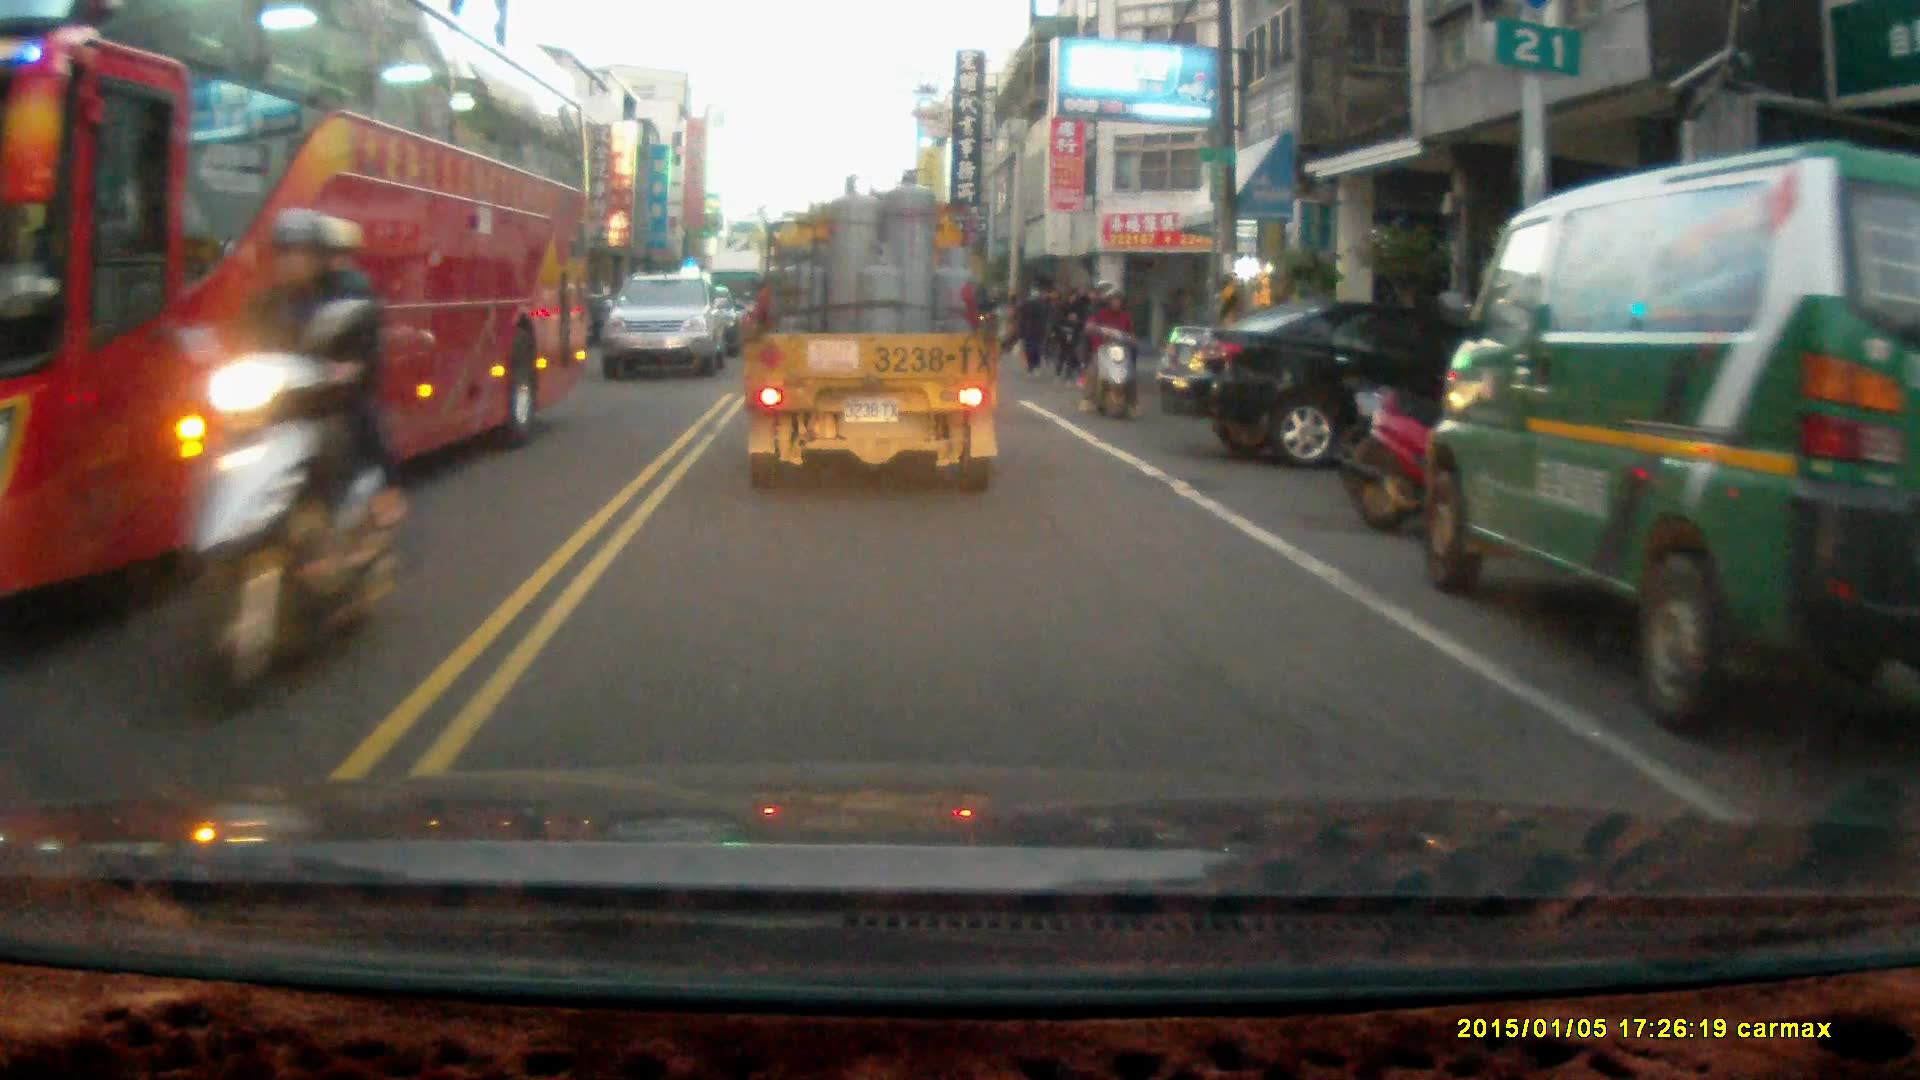pedestrian: (1052, 286, 1086, 386), (1018, 286, 1053, 371)
rider: (159, 205, 407, 718), (1083, 276, 1146, 423)
vehicle: (1, 7, 602, 621), (1423, 136, 1920, 739), (741, 168, 1005, 493), (1168, 299, 1519, 473), (604, 273, 731, 382)
